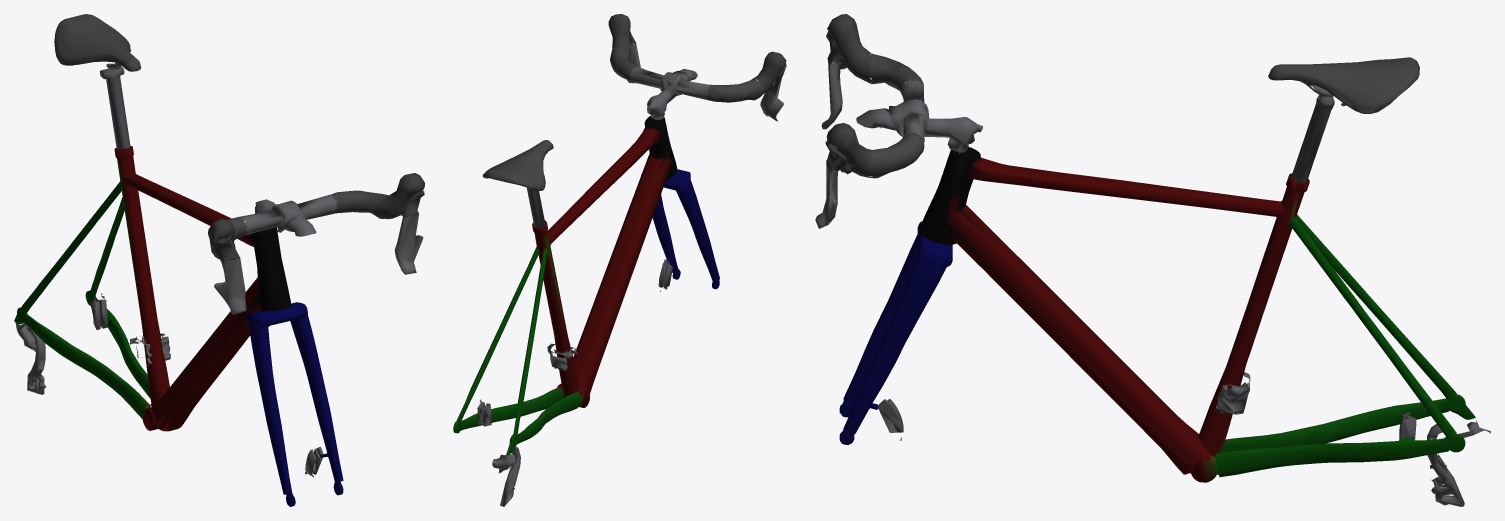
The model's file is look785m_lod2.glb.
3 views of the same model, side by side, from view 1: azimuth 30°, elevation 25°; view 2: azimuth 150°, elevation 25°; view 3: azimuth 270°, elevation 25° (orthographic). The views are drawn at different scales.
Parts seen in each view (by area): view 1: frame, cockpit, fork, saddle, seatpost, etrier_arriere; view 2: frame, cockpit, fork, saddle, seatpost; view 3: frame, cockpit, fork, saddle, seatpost.
Boxes of the visible parts, <box> form: frame: <box>14,146,291,431</box>; cockpit: <box>208,173,424,314</box>; fork: <box>246,302,343,506</box>; saddle: <box>54,14,141,71</box>; seatpost: <box>100,66,130,149</box>; etrier_arriere: <box>90,293,107,329</box>; frame: <box>453,115,677,506</box>; cockpit: <box>608,14,786,121</box>; fork: <box>652,169,719,289</box>; saddle: <box>482,140,553,190</box>; seatpost: <box>527,187,545,227</box>; frame: <box>919,146,1490,506</box>; cockpit: <box>815,14,982,228</box>; fork: <box>839,221,952,444</box>; saddle: <box>1268,57,1419,113</box>; seatpost: <box>1291,94,1334,182</box>.
Size of the model in its own units: 0.4733 by 0.8161 by 1.1.
